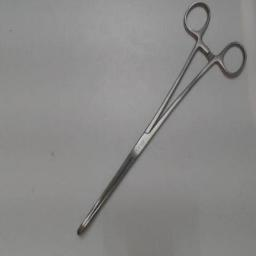Sponge Forceps: (72, 2, 250, 240)
